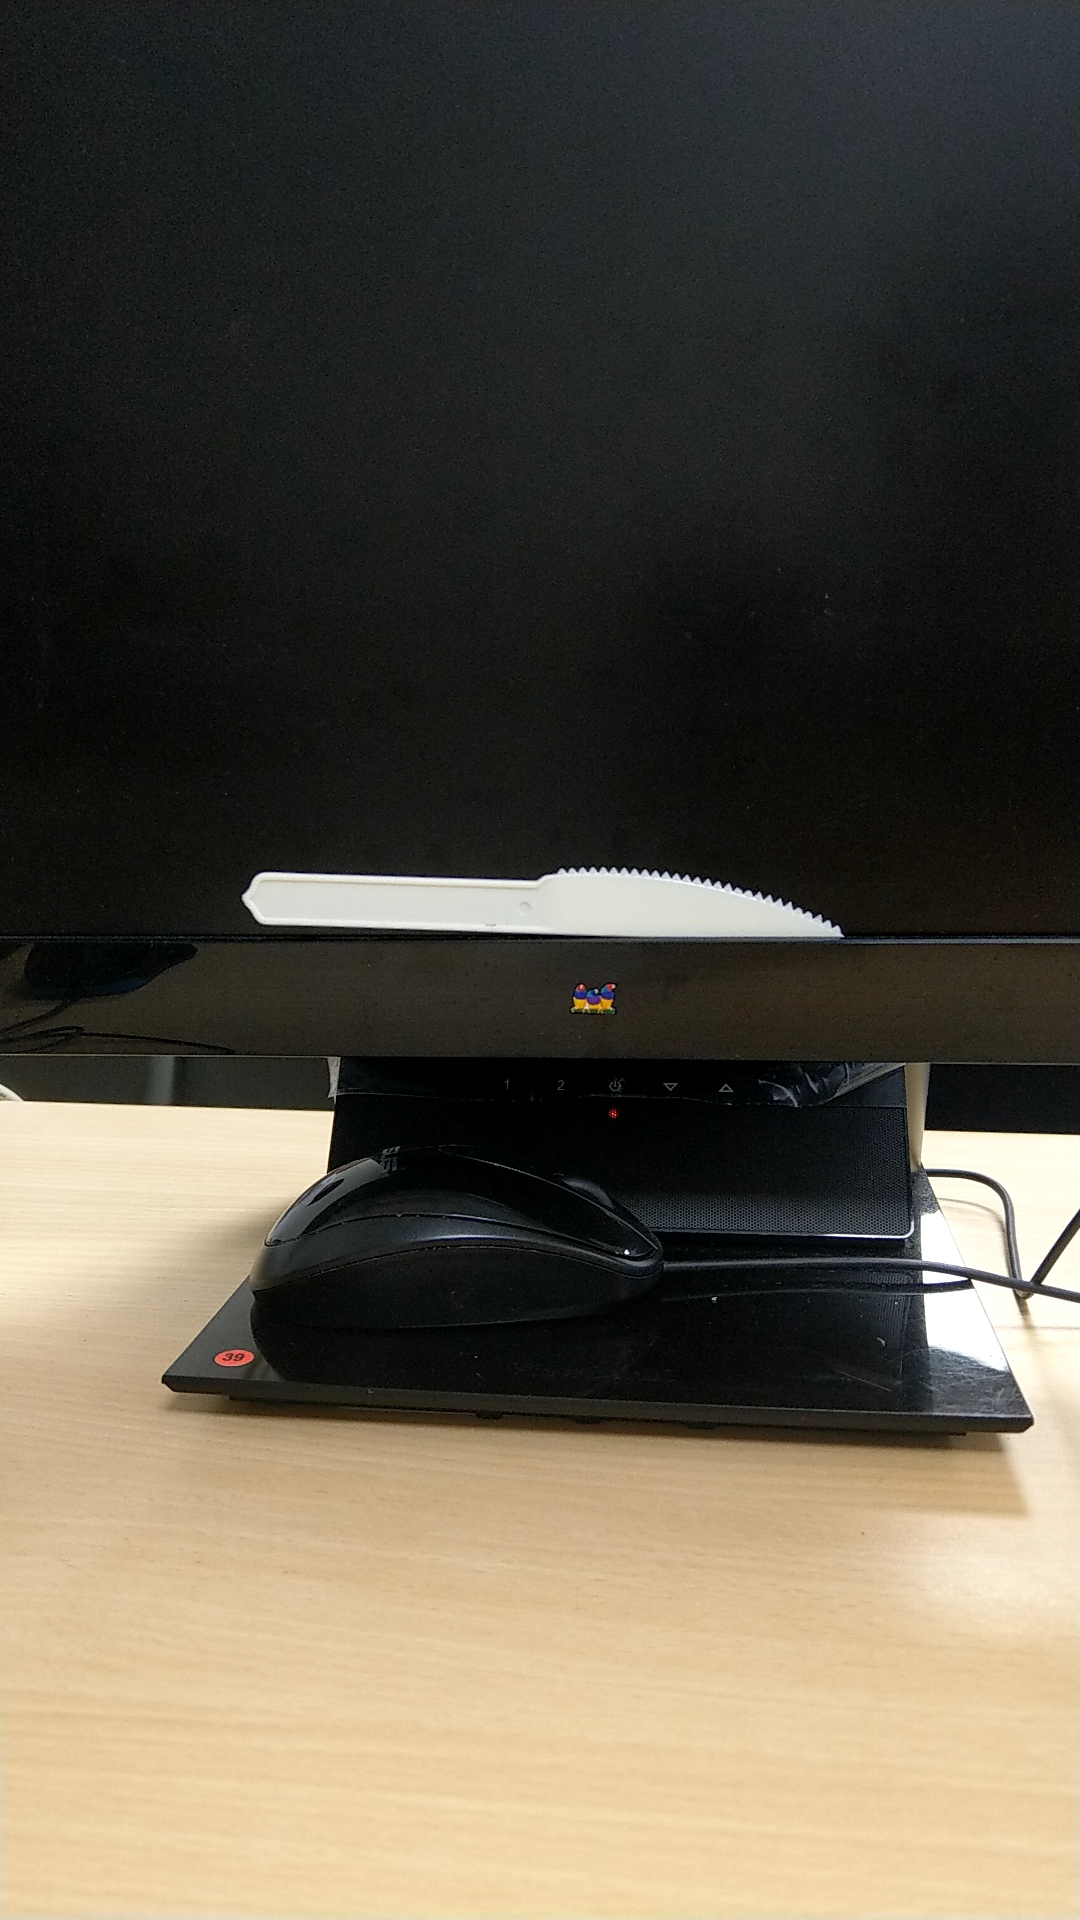knife: (237, 855, 841, 953)
